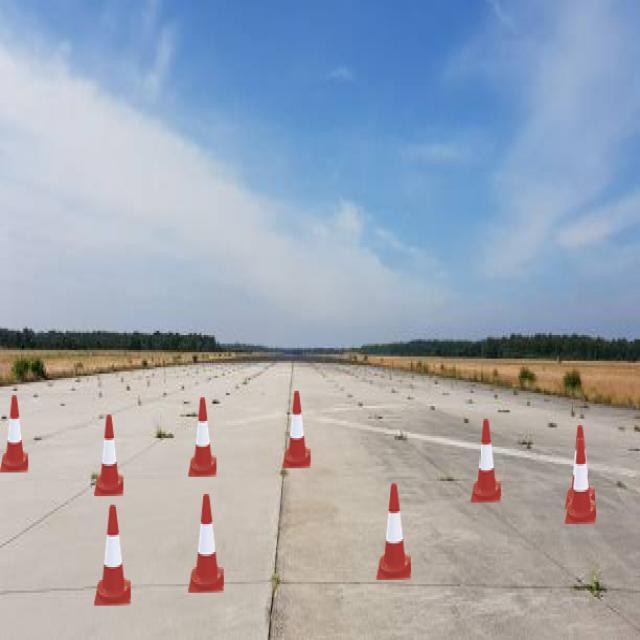orange_cone: (94, 504, 131, 606), (188, 494, 224, 593), (376, 483, 411, 580), (565, 438, 596, 524), (565, 425, 595, 509), (471, 418, 501, 502), (94, 415, 124, 496), (188, 397, 216, 477), (0, 395, 28, 473), (282, 391, 310, 468)
